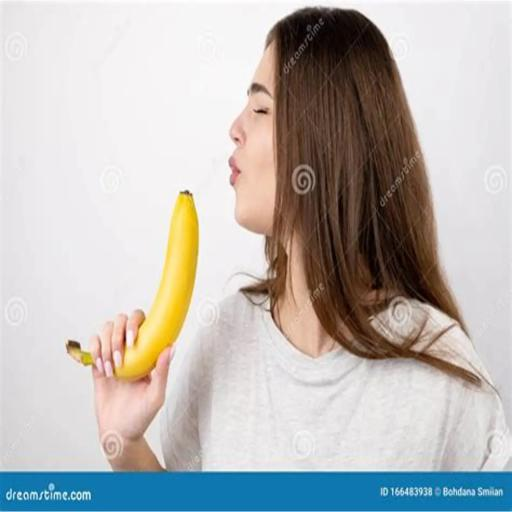banana: (114, 191, 198, 381)
